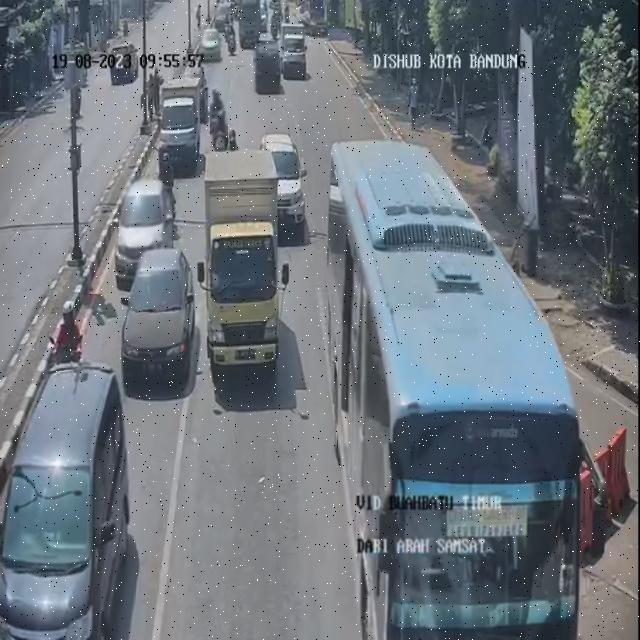cars: (0, 360, 136, 640), (124, 250, 199, 389), (119, 176, 172, 282), (154, 66, 204, 178), (264, 132, 306, 228), (278, 24, 308, 87), (253, 42, 283, 93), (239, 1, 261, 46), (199, 27, 223, 67)
motorcycle: (50, 302, 78, 375), (210, 89, 228, 144), (224, 22, 237, 55)
truck: (338, 139, 585, 640), (202, 154, 286, 386)
